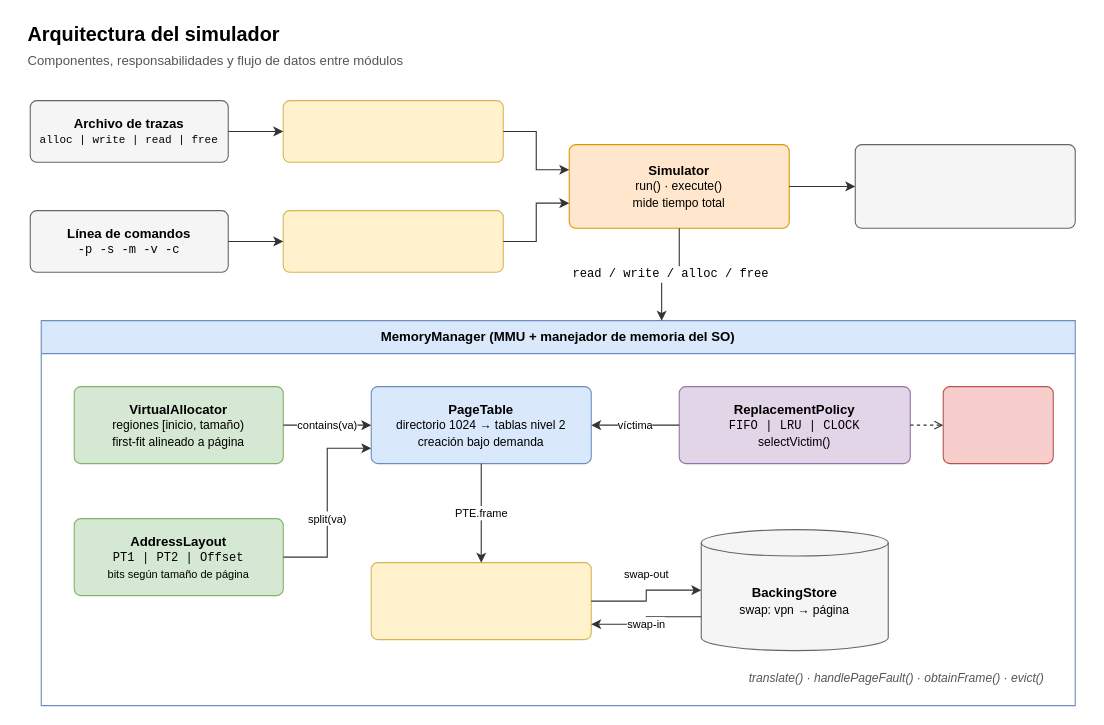
Some shapes in this 1104 by 725 pixel diagram are drawn without their labels. Each missing label, with the box of its shape:
config.cpp parseArguments() / validateConfig(): (282, 210, 503, 272)
PhysicalMemory bytes · FrameInfo · lista libre: (370, 562, 591, 640)
Salida reporte · CSV · traza -v printReport / printCsvRow: (854, 144, 1075, 228)
Statistics fallos, hits, reemplazos: (942, 386, 1053, 464)
trace.cpp loadTrace() → Command[]: (282, 100, 503, 162)
